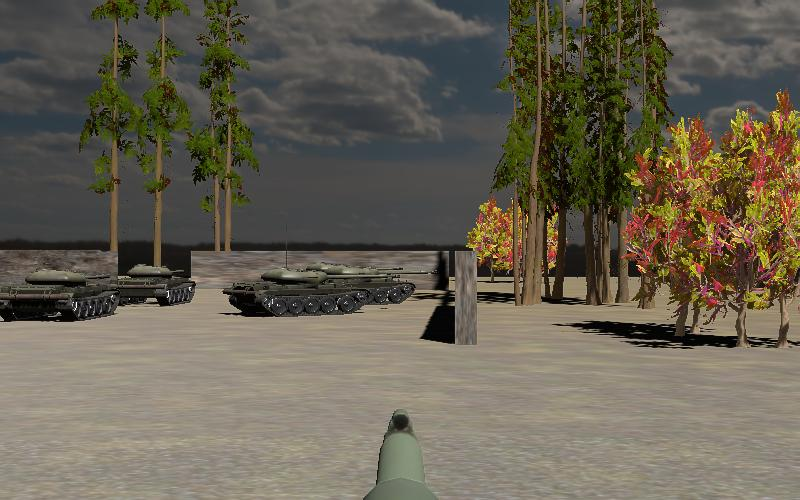Tank: (218, 266, 385, 319), (0, 267, 119, 325), (321, 265, 433, 307), (108, 261, 198, 308)
